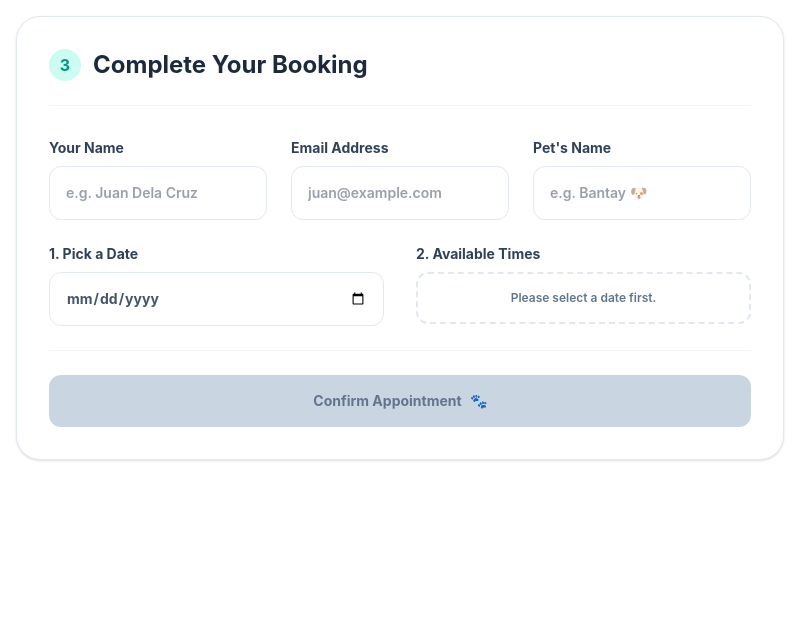
Scenario: BookingForm Logic & Workflow Automation › correctly renders available slots while excluding active timeline conflict blocks
This screenshot has width=801, height=628.
Type "2026-08-15" into the date field.
click(216, 299); type("2026-08-15")  # box [49,272,384,326]
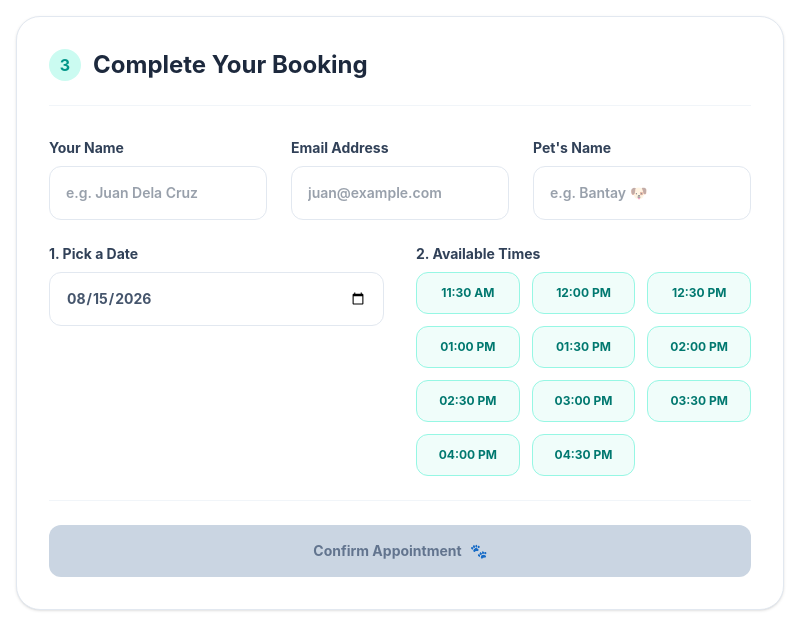
Check: the button "11:30 AM" is shown, box [416,272,520,314]
